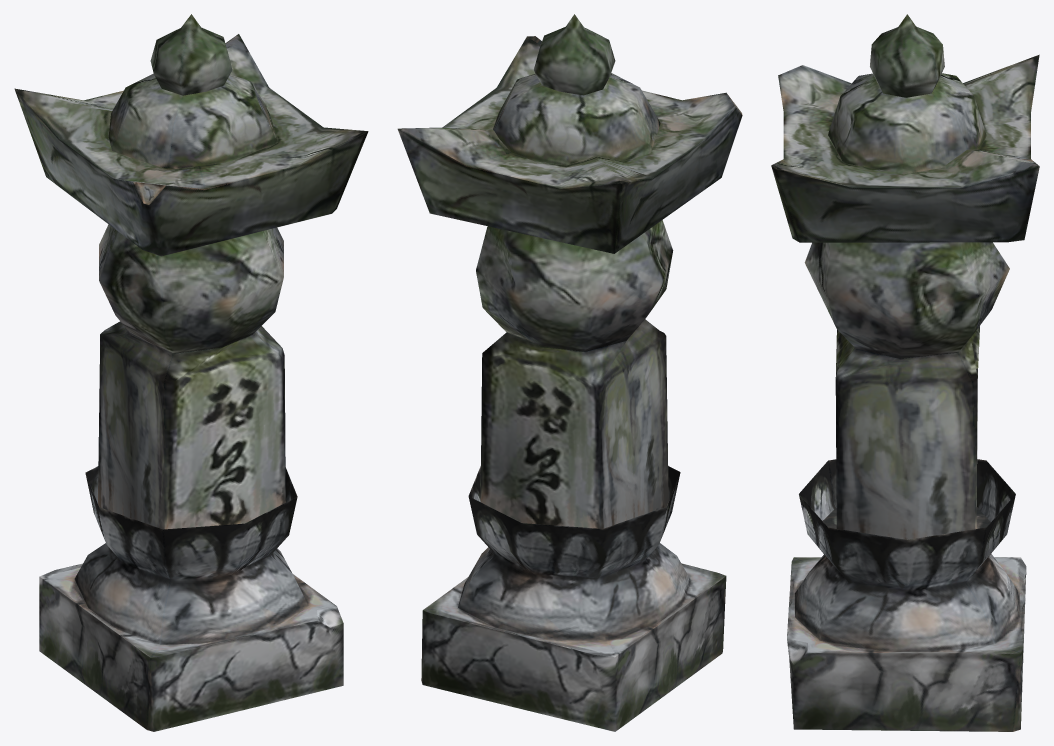
The model's file is DEC_GravestoneC.FBX.
3 renders of one model, left to right at view 1: azimuth 30°, elevation 25°; view 2: azimuth 150°, elevation 25°; view 3: azimuth 270°, elevation 25°, orthographic. The views are drawn at different scales.
Parts seen in each view (by area): view 1: DEC_GravestoneC; view 2: DEC_GravestoneC; view 3: DEC_GravestoneC.
Part boxes in pixels (x1,y1,x2,y2): DEC_GravestoneC: (14,14,368,731); DEC_GravestoneC: (397,14,742,731); DEC_GravestoneC: (771,14,1039,731).
Size of the model in its own units: 75.45 by 210 by 76.64.
